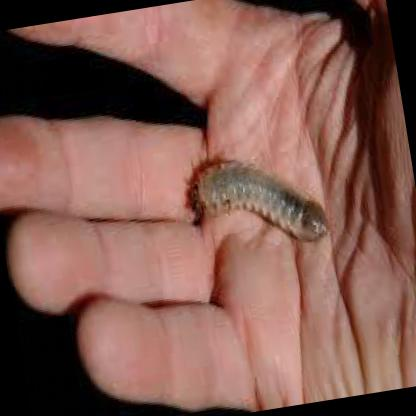root grubs: (189, 158, 326, 243)
